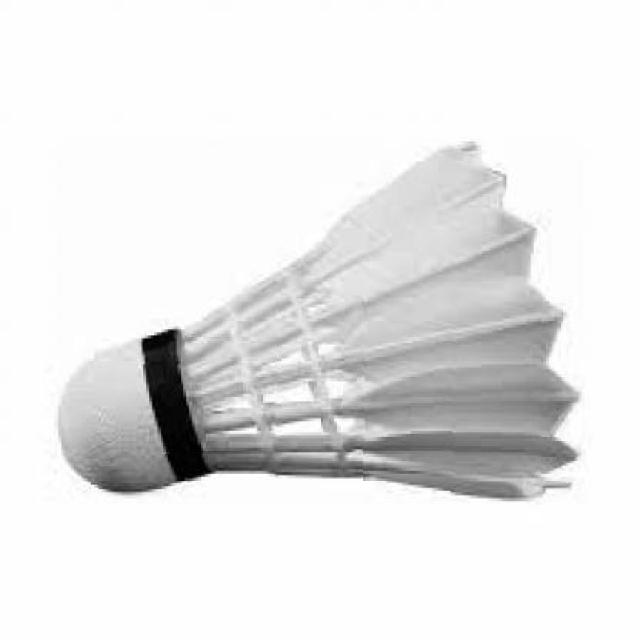Shuttlecock: (54, 139, 586, 506)
